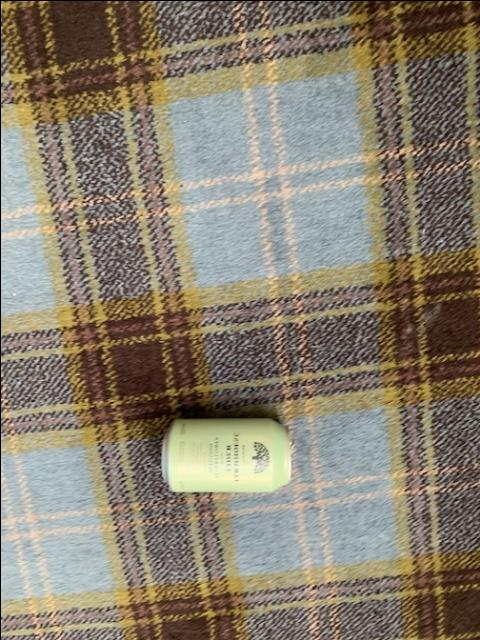metal: (160, 419, 288, 492)
